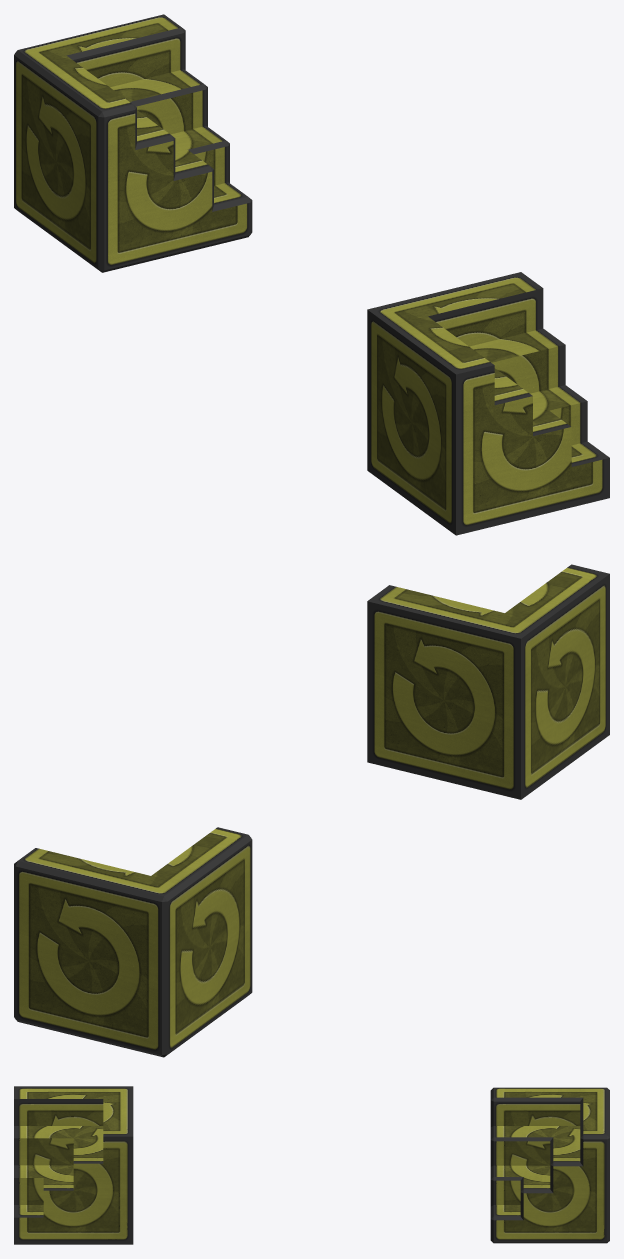
File: step4.insideCorner.fbx
The picture shows the model from 3 angles, top to bottom: view 1: azimuth 30°, elevation 25°; view 2: azimuth 150°, elevation 25°; view 3: azimuth 270°, elevation 25°; orthographic projection. The views are drawn at different scales.
Visible parts, largest first — view 1: MESH step4.insideCorner, MESH step4.insideCorner.c; view 2: MESH step4.insideCorner, MESH step4.insideCorner.c; view 3: MESH step4.insideCorner, MESH step4.insideCorner.c.
Part boxes in pixels (<box>): MESH step4.insideCorner: <box>367,272,609,535</box>; MESH step4.insideCorner.c: <box>14,14,252,272</box>; MESH step4.insideCorner: <box>367,564,609,799</box>; MESH step4.insideCorner.c: <box>14,827,252,1057</box>; MESH step4.insideCorner: <box>14,1086,133,1244</box>; MESH step4.insideCorner.c: <box>490,1087,609,1243</box>.
Size of what is drawn, in the model's own units: 100 by 100 by 500.
